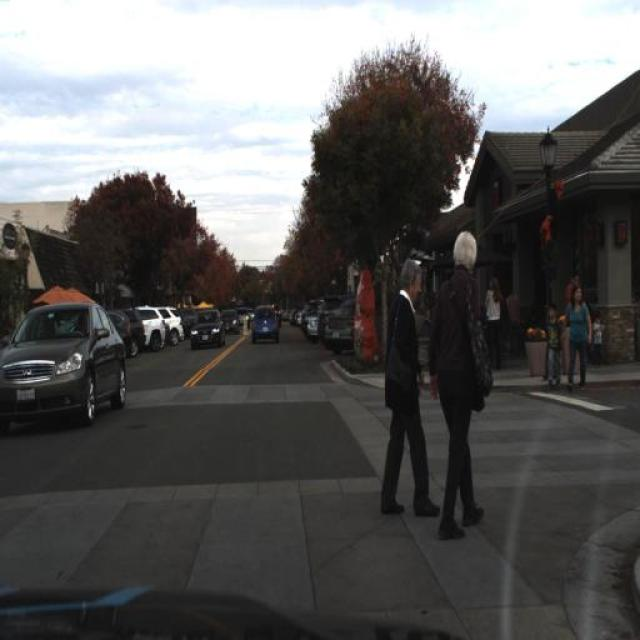car: (0, 298, 129, 422), (322, 294, 362, 355), (133, 304, 169, 355), (248, 300, 282, 348), (185, 308, 223, 348)
trafficLight: (426, 216, 492, 544), (382, 254, 442, 545), (563, 282, 596, 389), (541, 304, 563, 385)
